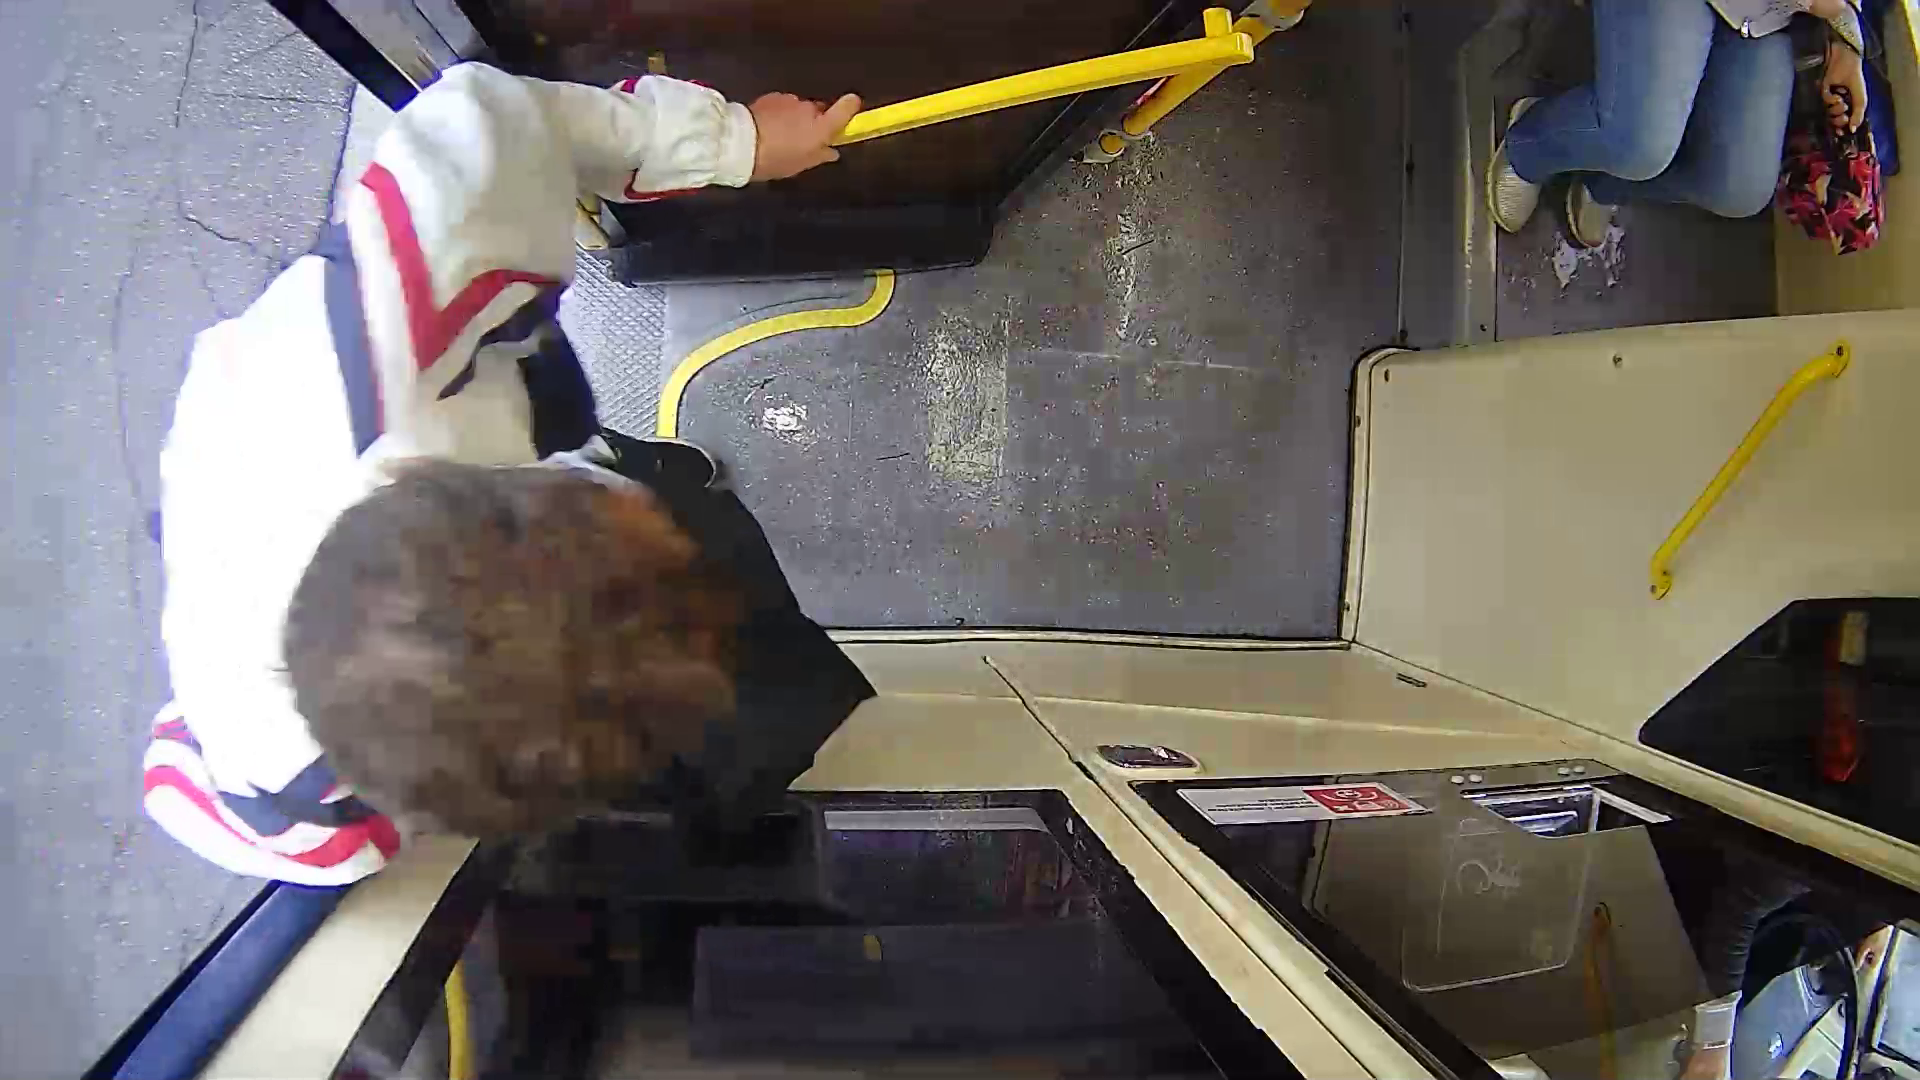person: (113, 105, 868, 841)
